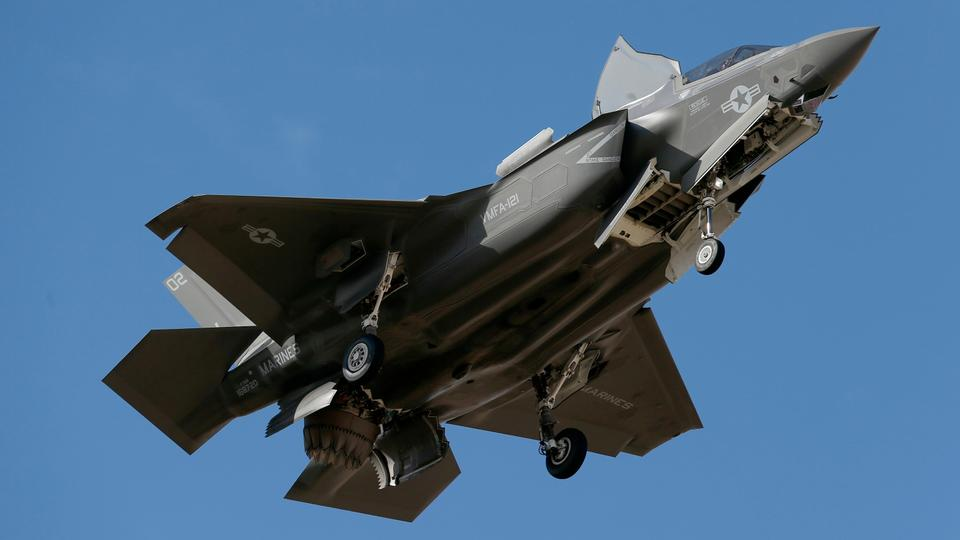F-35 Lightning: (51, 20, 885, 526)
